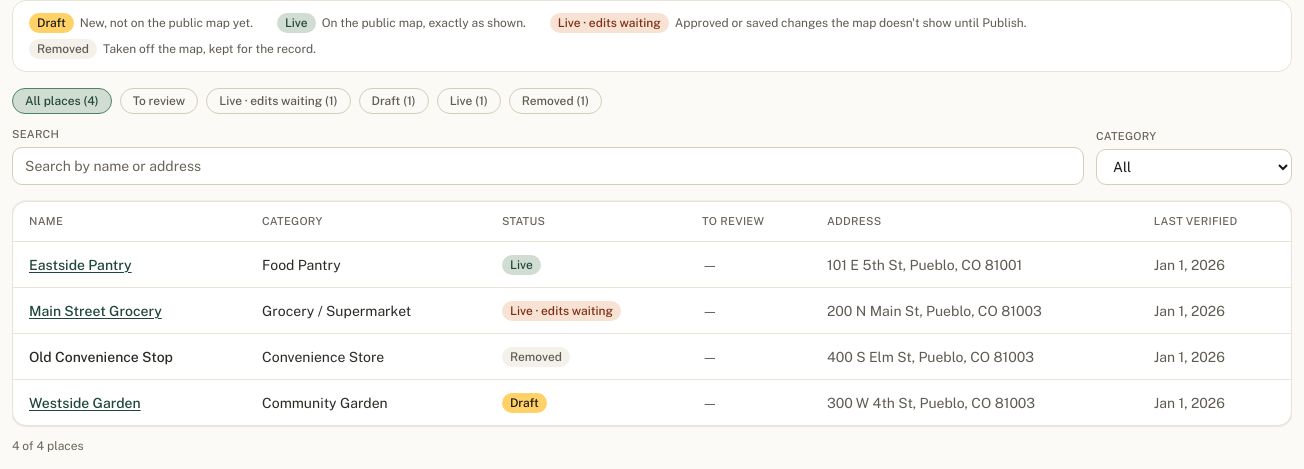
it: VenueListView — quick-filter chips (#674, formerly a status <select>) › filtering to Live · edits waiting shows only that status
This screenshot has width=1304, height=469.
What coordinates should you click on to do the following:
click the button "Live · edits waiting (1)"
I would click on:
 (278, 101)
Its box is [206, 88, 351, 114].
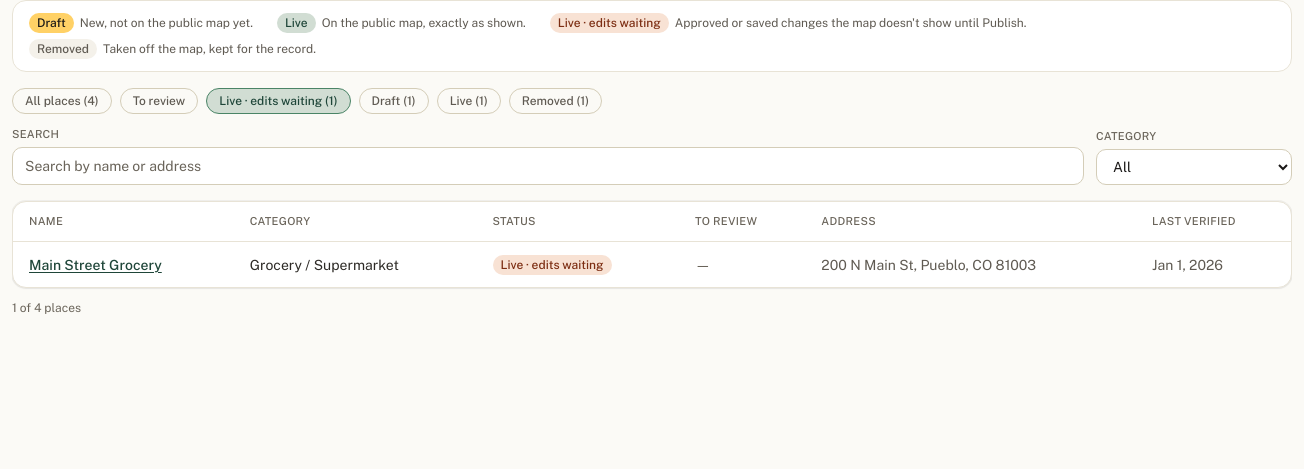
expect the link "Main Street Grocery" is shown: met, box [29, 257, 162, 273]
expect the link "Eastside Pantry" is gone: met
